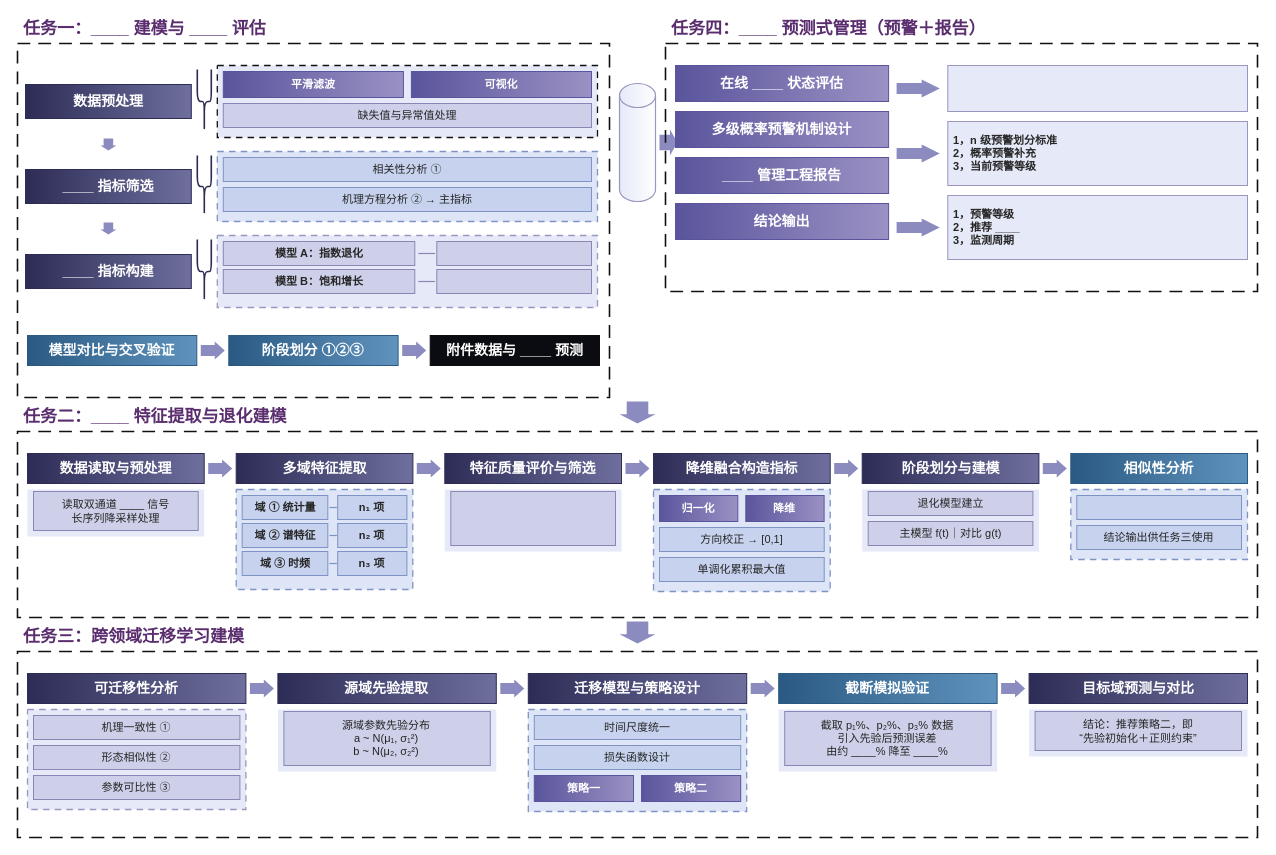
Some shapes in this 1276 by 855 pixel diagram are drawn without their labels. Each missing label, with the box of its shape:
1，当前状态指标 2，剩余 ____ 预测: (947, 64, 1248, 112)
f(t)=a·exp(bt)+c: (436, 240, 592, 266)
g(t)=1−exp(−α·exp(βt)): (436, 268, 592, 294)
任 务 三: (618, 82, 656, 202)
四指标：单调性＋趋势性 ＋鲁棒性＋早期敏感性 聚合评分 → 取 Top k: (450, 490, 616, 546)
样本 ① 与 ② 可迁移: (1076, 494, 1242, 520)
